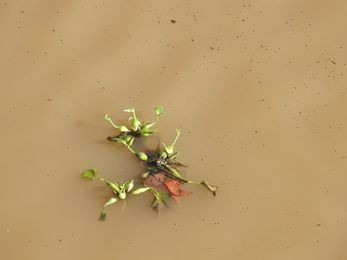water_hyacinth: (78, 105, 222, 224)
